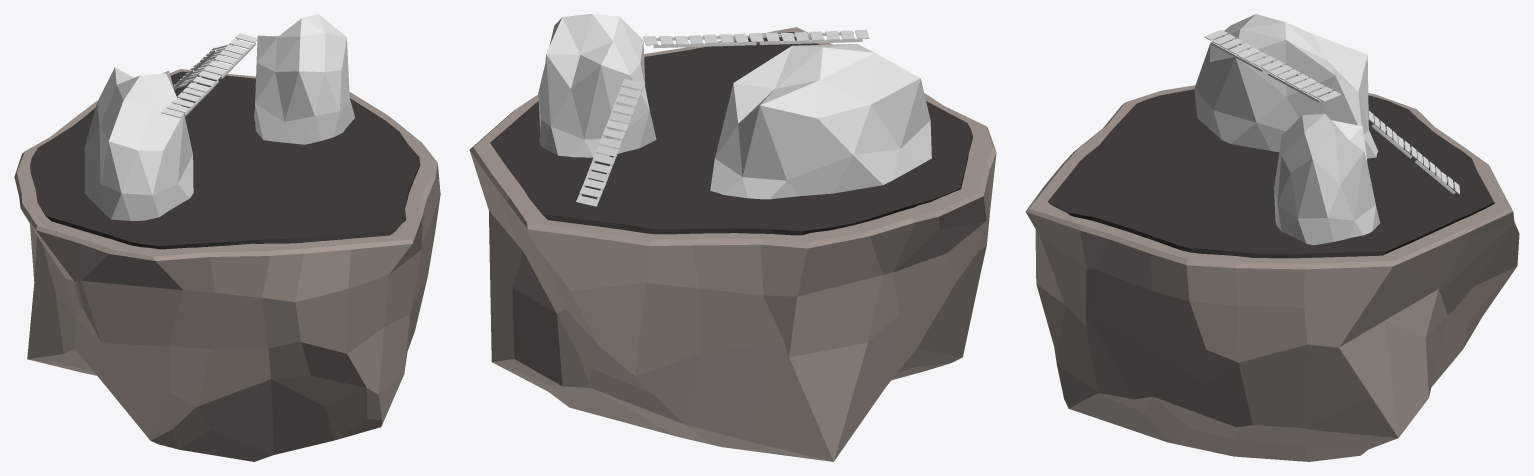
Rendered from Medium_Island_4.fbx.
The picture shows the model from 3 angles, left to right: view 1: azimuth 30°, elevation 25°; view 2: azimuth 150°, elevation 25°; view 3: azimuth 270°, elevation 25°; orthographic projection. The views are drawn at different scales.
Visible parts, largest first — view 1: Icosphere, Icosphere.004, Icosphere.002, Cube.002, Cube.001; view 2: Icosphere, Icosphere.004, Icosphere.002, Cube.001, Cube.002; view 3: Icosphere, Icosphere.004, Icosphere.002, Cube.002, Cube.001.
Boxes of the visible parts, x1,y1,x2,y2 form: Icosphere: [14, 69, 440, 461]; Icosphere.004: [84, 67, 193, 220]; Icosphere.002: [254, 14, 354, 144]; Cube.002: [161, 33, 258, 117]; Cube.001: [173, 43, 230, 89]; Icosphere: [469, 27, 996, 461]; Icosphere.004: [710, 44, 931, 199]; Icosphere.002: [538, 14, 656, 157]; Cube.001: [576, 79, 644, 206]; Cube.002: [643, 29, 869, 48]; Icosphere: [1025, 85, 1519, 461]; Icosphere.004: [1194, 14, 1378, 158]; Icosphere.002: [1274, 114, 1379, 245]; Cube.002: [1204, 29, 1341, 102]; Cube.001: [1368, 110, 1459, 194].
Bounding box in the file's own units: 67.71 × 61.05 × 72.7.
